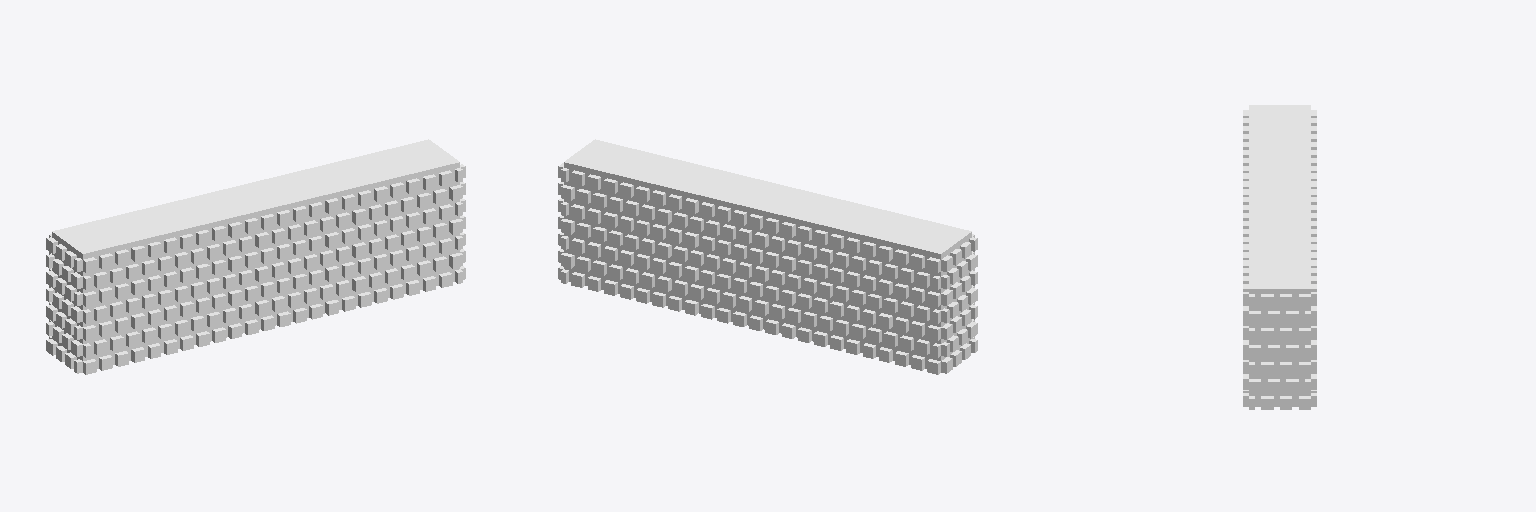
File: wall_h12_sq_1.0.obj
3 renders of one model, left to right at view 1: azimuth 30°, elevation 25°; view 2: azimuth 150°, elevation 25°; view 3: azimuth 270°, elevation 25°, orthographic.
Visible parts, largest first — view 1: object 1; view 2: object 1; view 3: object 1.
Boxes of the visible parts, <box> form: object 1: <box>46,139,465,374</box>; object 1: <box>558,139,977,374</box>; object 1: <box>1243,105,1316,409</box>.
Bounding box in the file's own units: 7.2 × 2.1 × 1.2.